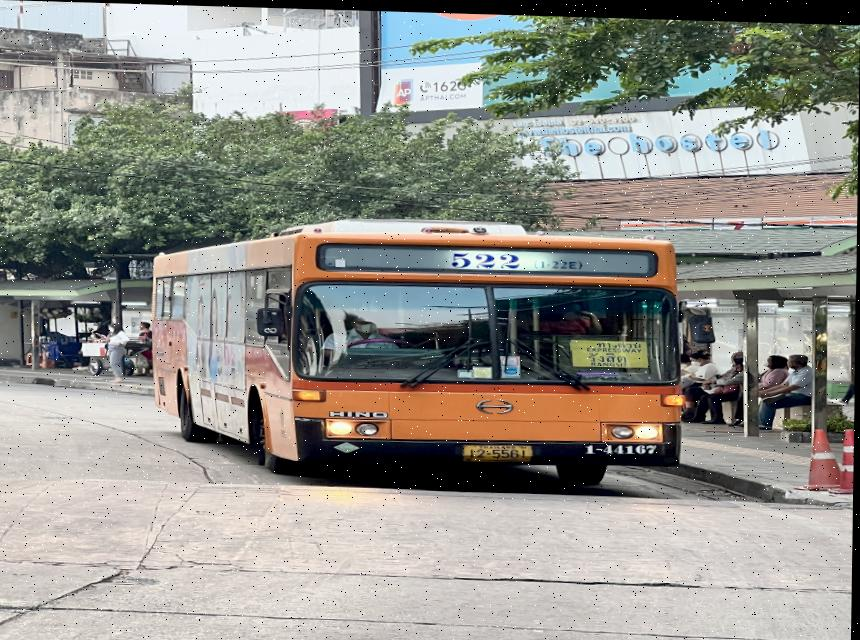BMTA-bus: (148, 218, 687, 487)
Bus Line Number: (436, 242, 591, 272)
Bus Side Number: (576, 438, 663, 452)
Destination Sign: (566, 335, 654, 364)
